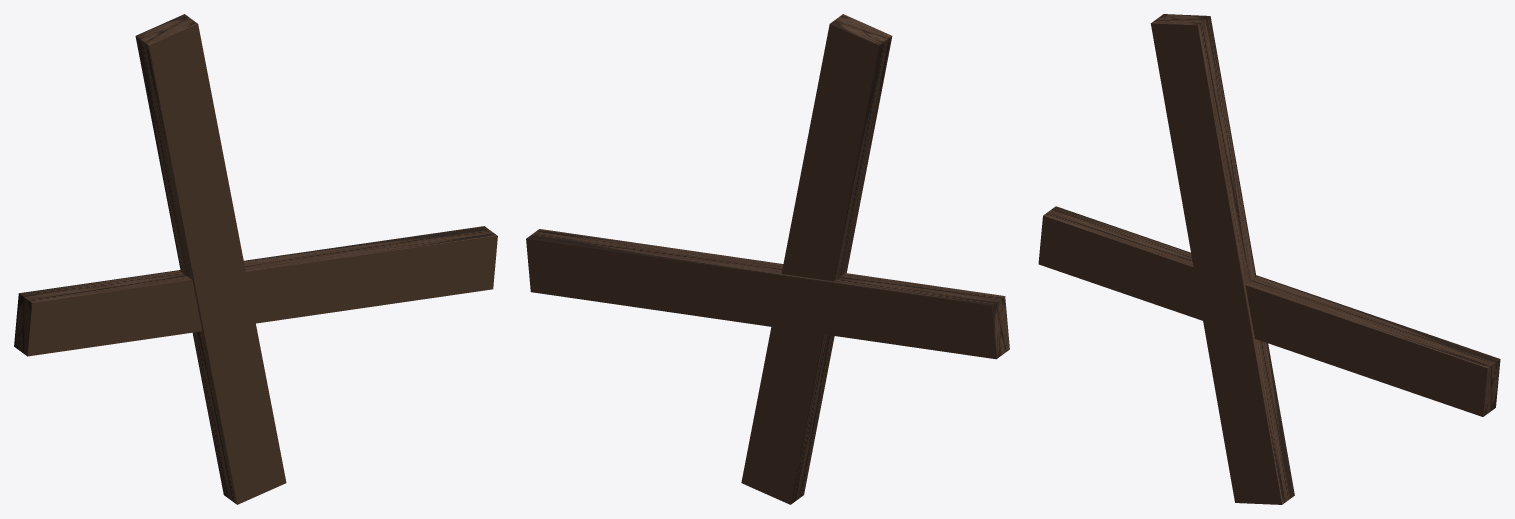
File: pz_g018_fencing_damaged_01_171.obj
The picture shows the model from 3 angles, left to right: view 1: azimuth 30°, elevation 25°; view 2: azimuth 150°, elevation 25°; view 3: azimuth 330°, elevation 25°; orthographic projection. The views are drawn at different scales.
Visible parts, largest first — view 1: pz_g018_fencing_damaged_01_171; view 2: pz_g018_fencing_damaged_01_171; view 3: pz_g018_fencing_damaged_01_171.
Boxes of the visible parts, <box> form: pz_g018_fencing_damaged_01_171: <box>14,14,497,504</box>; pz_g018_fencing_damaged_01_171: <box>526,14,1009,504</box>; pz_g018_fencing_damaged_01_171: <box>1038,14,1500,504</box>.
Size of the model in its own units: 0.8447 by 0.8419 by 0.048.
Materials: 1 (1 with a texture image).
